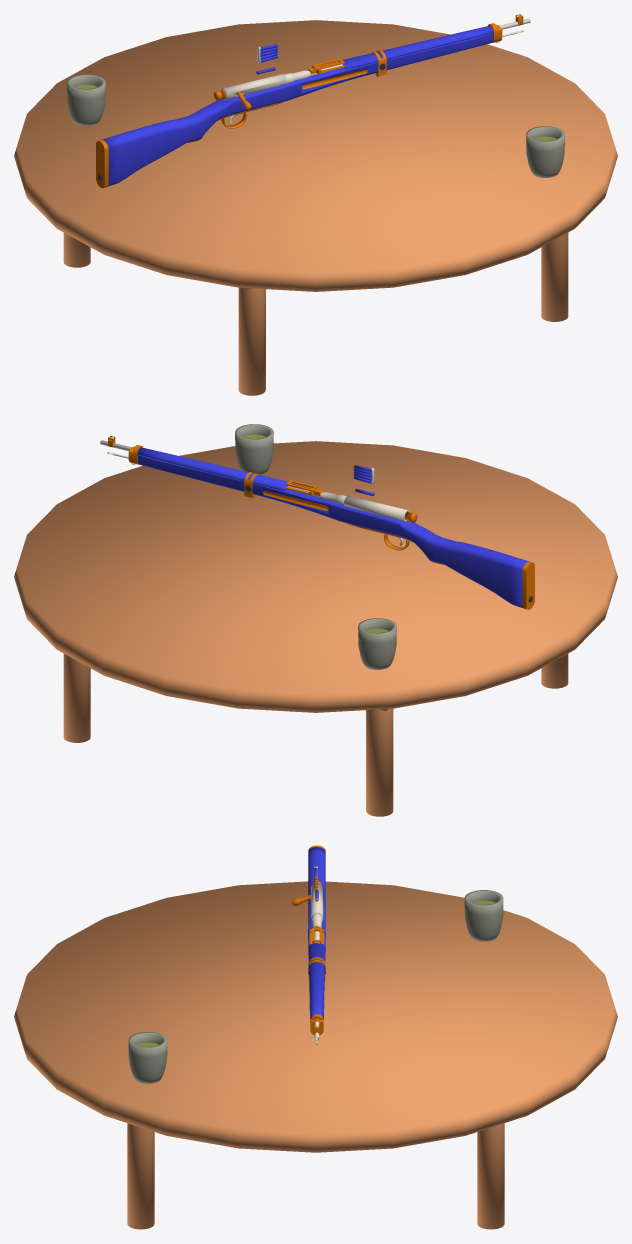
File: Full.fbx
The picture shows the model from 3 angles, top to bottom: view 1: azimuth 30°, elevation 25°; view 2: azimuth 150°, elevation 25°; view 3: azimuth 270°, elevation 25°; orthographic projection.
Visible parts, largest first — view 1: Table, Gun, Glass, Bolt; view 2: Table, Gun, Glass, Bolt; view 3: Table, Glass, Gun.
Part boxes in pixels (x1,y1,x2,y2): Table: [14, 20, 617, 395]; Gun: [96, 14, 530, 188]; Glass: [67, 74, 564, 177]; Bolt: [213, 74, 286, 109]; Table: [14, 441, 617, 816]; Gun: [100, 436, 534, 609]; Glass: [235, 424, 396, 669]; Bolt: [344, 495, 417, 522]; Table: [14, 881, 617, 1229]; Glass: [128, 890, 503, 1083]; Gun: [308, 845, 325, 1044].
Size of the model in its own units: 206 by 96.23 by 206.
